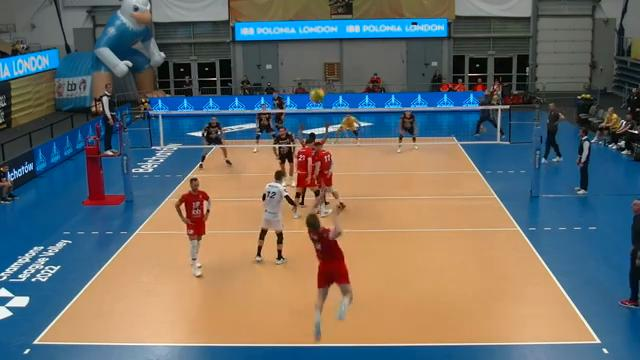Player: (255, 170, 296, 264), (175, 177, 210, 276), (315, 142, 345, 209), (295, 133, 319, 204), (202, 116, 231, 165), (273, 127, 294, 185), (254, 104, 274, 152), (397, 110, 417, 152), (334, 115, 360, 143), (273, 91, 284, 129)
Serve: (301, 196, 354, 340)
ball: (311, 88, 324, 102)
